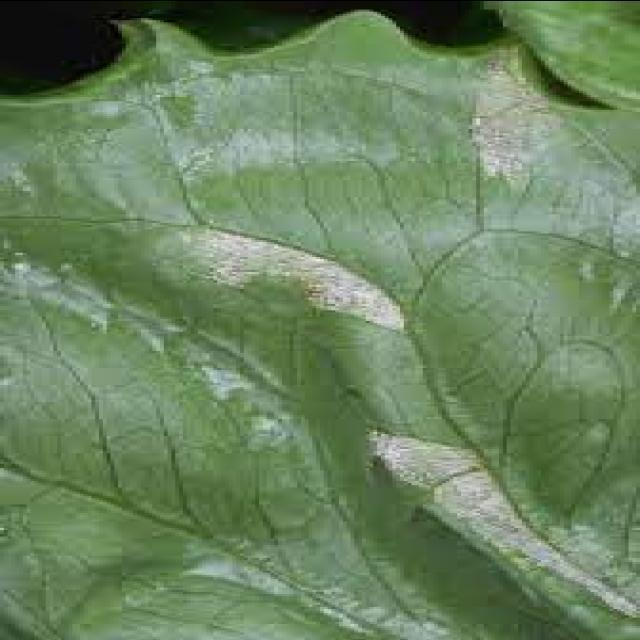Bad: (78, 110, 616, 602)
